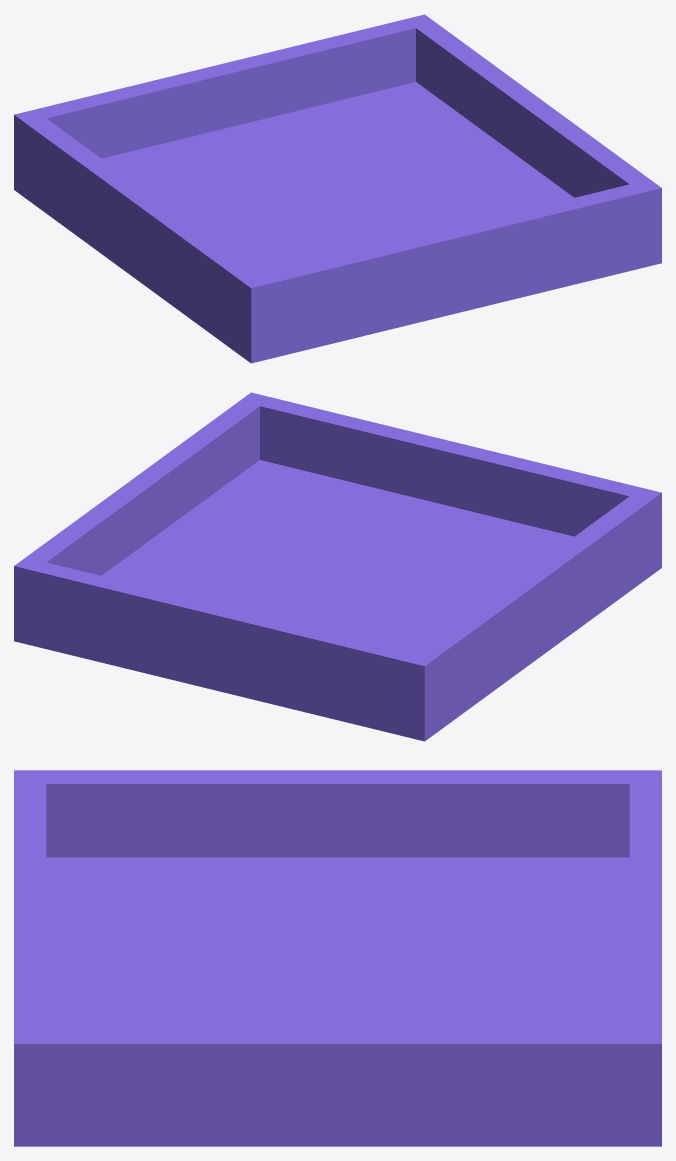
File: PurpleRoof_4Edges.glb
3 views of the same model, one above another, from view 1: azimuth 30°, elevation 25°; view 2: azimuth 150°, elevation 25°; view 3: azimuth 270°, elevation 25° (orthographic). The views are drawn at different scales.
Visible parts, largest first — view 1: roof_flat_4Edges_purple; view 2: roof_flat_4Edges_purple; view 3: roof_flat_4Edges_purple.
Boxes of the visible parts, bbox=[...] form: roof_flat_4Edges_purple: bbox=[14, 14, 661, 363]; roof_flat_4Edges_purple: bbox=[14, 392, 661, 741]; roof_flat_4Edges_purple: bbox=[14, 770, 661, 1146].
Size of what is drawn, in the model's own units: 4 by 0.7 by 4.
1 material, 1 textured.
